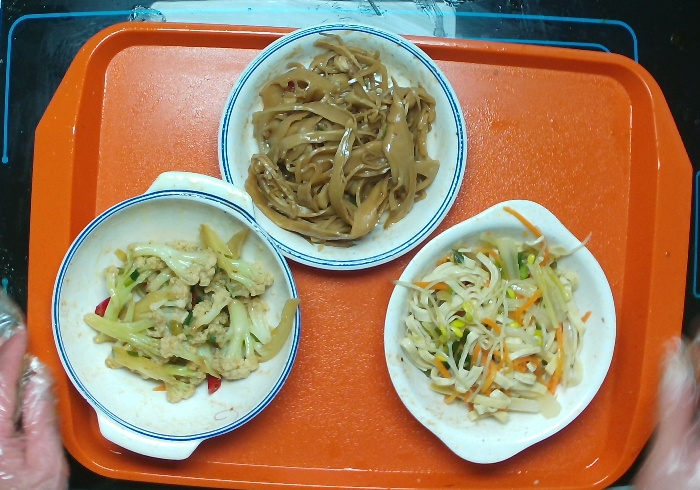HZYJPL-Dai_Er_Bai_Yuan_Wan: (372, 196, 618, 472)
HZYJPL-Lan_Bian_Dai_Er_Wan: (55, 168, 304, 465)
HZYJPL-Lan_Bian_Yuan_Die: (216, 24, 466, 276)
